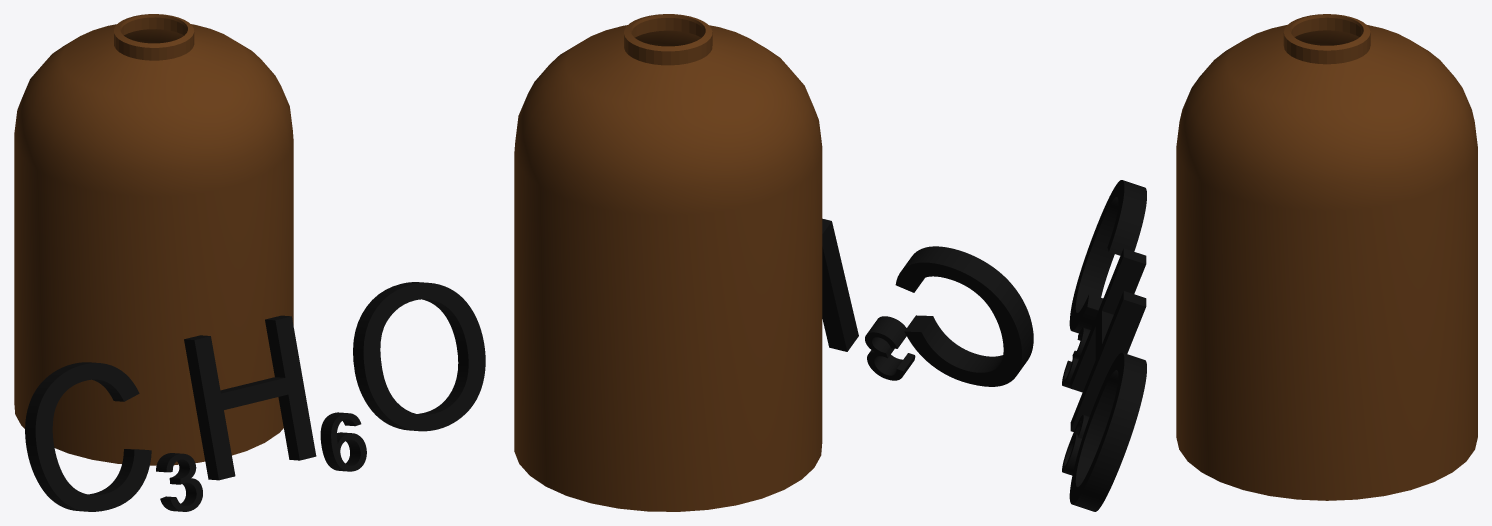
The picture shows the model from 3 angles, left to right: view 1: azimuth 30°, elevation 25°; view 2: azimuth 150°, elevation 25°; view 3: azimuth 270°, elevation 25°; orthographic projection. The views are drawn at different scales.
Visible parts, largest first — view 1: C3H6O; view 2: C3H6O; view 3: C3H6O.
Boxes of the visible parts, <box> form: C3H6O: <box>14,14,485,511</box>; C3H6O: <box>514,14,1033,511</box>; C3H6O: <box>1062,14,1477,511</box>.
Bounding box in the file's own units: 0.1841 × 0.1489 × 0.1379.
